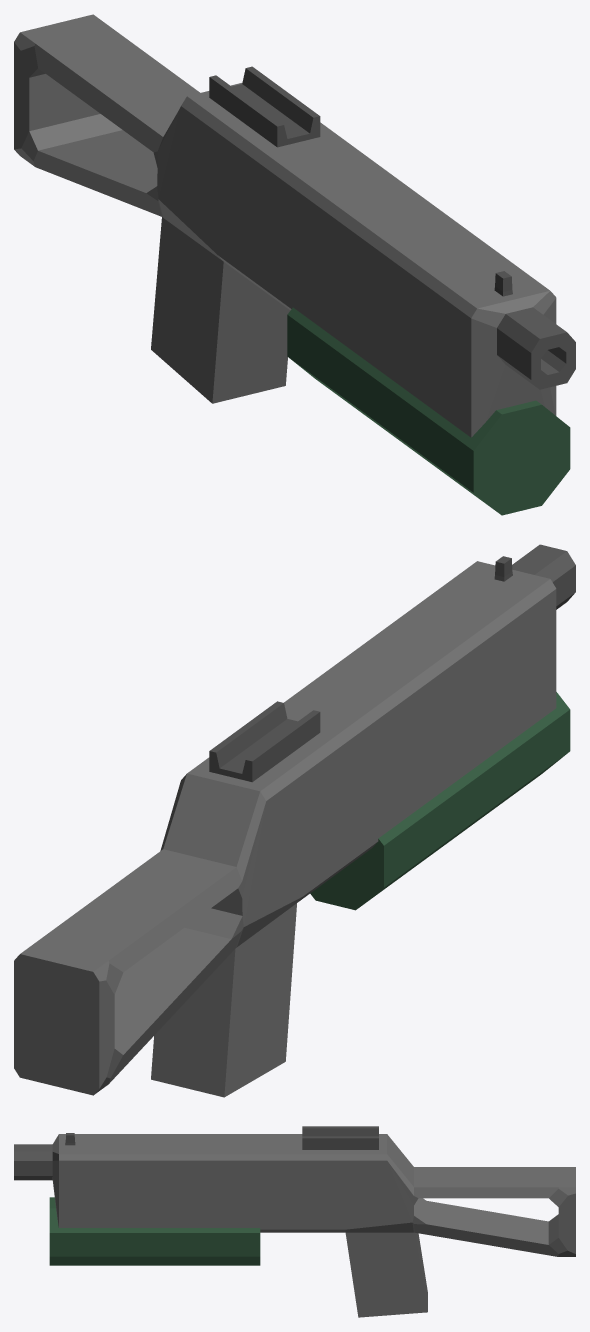
The model's file is weapon_sm0 - bizon.fbx.
3 renders of one model, top to bottom at view 1: azimuth 30°, elevation 25°; view 2: azimuth 150°, elevation 25°; view 3: azimuth 270°, elevation 25°, orthographic. The views are drawn at different scales.
Visible parts, largest first — view 1: sm0.main, sm0.magazine, sm0.sight-b; view 2: sm0.main, sm0.magazine, sm0.sight-b; view 3: sm0.main, sm0.magazine, sm0.sight-b.
Boxes of the visible parts, bbox=[...] form: sm0.main: bbox=[14, 14, 575, 437]; sm0.magazine: bbox=[287, 307, 570, 515]; sm0.sight-b: bbox=[209, 66, 320, 147]; sm0.main: bbox=[14, 544, 575, 1097]; sm0.magazine: bbox=[310, 692, 570, 910]; sm0.sight-b: bbox=[209, 701, 320, 782]; sm0.main: bbox=[14, 1134, 575, 1317]; sm0.magazine: bbox=[49, 1197, 260, 1265]; sm0.sight-b: bbox=[302, 1126, 378, 1149].
Size of the model in its own units: 31.37 by 96.13 by 279.
